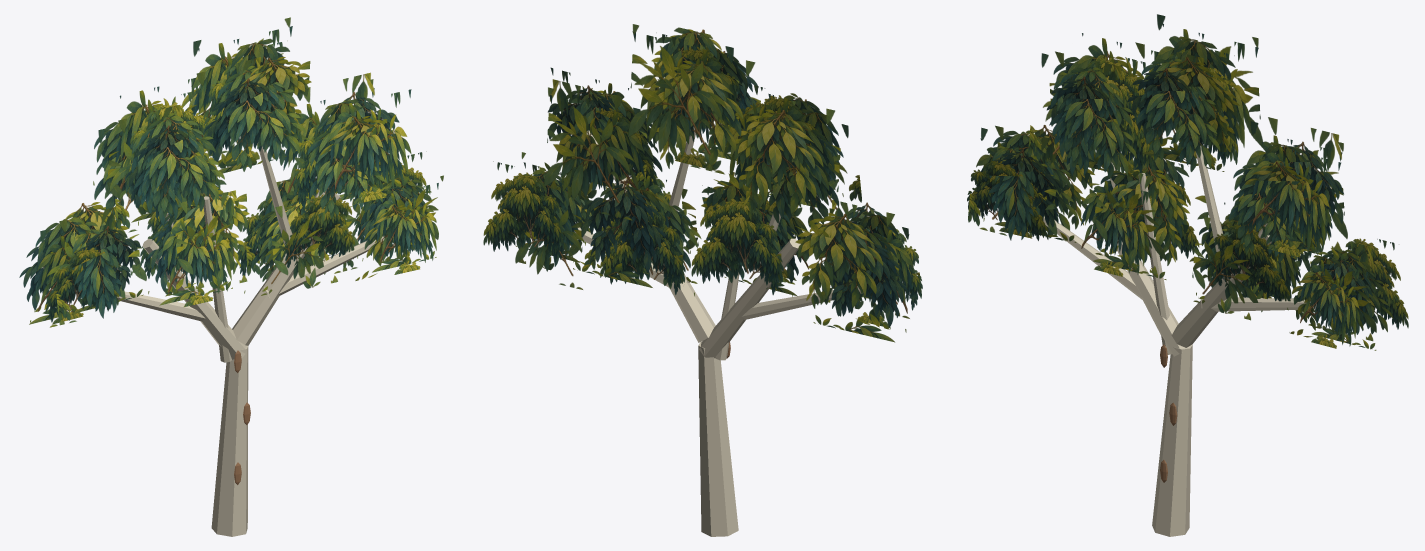
File: TREE_EUCALYPTUS_001_LOD_CLOSE.glb
The picture shows the model from 3 angles, left to right: view 1: azimuth 30°, elevation 25°; view 2: azimuth 150°, elevation 25°; view 3: azimuth 330°, elevation 25°; orthographic projection. The views are drawn at different scales.
Visible parts, largest first — view 1: GG_EUC_V2_BRANCH_00, GG_EUC_FRONT_ISLAND_01_CLUSTER_02, GG_EUC_FRONT_ISLAND_02_CLUSTER_01, GG_EUC_FRONT_ISLAND_03_CLUSTER_02, GG_EUC_FRONT_ISLAND_05_CLUSTER_00, GG_EUC_FRONT_ISLAND_03_CLUSTER_00, GG_EUC_FRONT_ISLAND_00_CLUSTER_01, GG_EUC_FRONT_ISLAND_04_CLUSTER_01, GG_EUC_FRONT_ISLAND_06_CLUSTER_02, GG_EUC_BODY_ISLAND_05_CLUSTER_02, GG_EUC_FRONT_ISLAND_02_CLUSTER_00, GG_EUC_V2_BRANCH_02 (+41 smaller); view 2: GG_EUC_REAR_ISLAND_01_CLUSTER_01, GG_EUC_V2_BRANCH_00, GG_EUC_REAR_ISLAND_05_CLUSTER_01, GG_EUC_REAR_ISLAND_00_CLUSTER_02, GG_EUC_REAR_ISLAND_06_CLUSTER_02, GG_EUC_REAR_ISLAND_02_CLUSTER_00, GG_EUC_REAR_ISLAND_04_CLUSTER_02, GG_EUC_REAR_ISLAND_02_CLUSTER_02, GG_EUC_REAR_ISLAND_03_CLUSTER_00, GG_EUC_REAR_ISLAND_00_CLUSTER_00, GG_EUC_REAR_ISLAND_03_CLUSTER_01, GG_EUC_REAR_ISLAND_01_CLUSTER_00 (+30 smaller); view 3: GG_EUC_V2_BRANCH_00, GG_EUC_FRONT_ISLAND_01_CLUSTER_02, GG_EUC_FRONT_ISLAND_02_CLUSTER_01, GG_EUC_FRONT_ISLAND_03_CLUSTER_02, GG_EUC_FRONT_ISLAND_05_CLUSTER_00, GG_EUC_FRONT_ISLAND_06_CLUSTER_02, GG_EUC_BODY_ISLAND_05_CLUSTER_02, GG_EUC_FRONT_ISLAND_03_CLUSTER_00, GG_EUC_FRONT_ISLAND_04_CLUSTER_01, GG_EUC_FRONT_ISLAND_00_CLUSTER_01, GG_EUC_FRONT_ISLAND_02_CLUSTER_02, GG_EUC_BODY_ISLAND_01_CLUSTER_02 (+37 smaller).
Boxes of the visible parts, x1,y1,x2,y2 form: GG_EUC_V2_BRANCH_00: (211,345,248,536); GG_EUC_FRONT_ISLAND_01_CLUSTER_02: (138,113,224,225); GG_EUC_FRONT_ISLAND_02_CLUSTER_01: (216,65,305,179); GG_EUC_FRONT_ISLAND_03_CLUSTER_02: (327,89,411,204); GG_EUC_FRONT_ISLAND_05_CLUSTER_00: (161,207,234,306); GG_EUC_FRONT_ISLAND_03_CLUSTER_00: (306,132,388,225); GG_EUC_FRONT_ISLAND_00_CLUSTER_01: (56,229,141,321); GG_EUC_FRONT_ISLAND_04_CLUSTER_01: (375,183,438,274); GG_EUC_FRONT_ISLAND_06_CLUSTER_02: (282,185,354,267); GG_EUC_BODY_ISLAND_05_CLUSTER_02: (164,187,249,292); GG_EUC_FRONT_ISLAND_02_CLUSTER_00: (204,78,286,175); GG_EUC_V2_BRANCH_02: (232,193,341,345); GG_EUC_REAR_ISLAND_01_CLUSTER_01: (734,109,831,237); GG_EUC_V2_BRANCH_00: (698,341,738,536); GG_EUC_REAR_ISLAND_05_CLUSTER_01: (691,185,783,295); GG_EUC_REAR_ISLAND_00_CLUSTER_02: (795,213,891,329); GG_EUC_REAR_ISLAND_06_CLUSTER_02: (573,180,665,287); GG_EUC_REAR_ISLAND_02_CLUSTER_00: (651,60,751,191); GG_EUC_REAR_ISLAND_04_CLUSTER_02: (483,161,564,261); GG_EUC_REAR_ISLAND_02_CLUSTER_02: (628,24,733,174); GG_EUC_REAR_ISLAND_03_CLUSTER_00: (549,95,644,207); GG_EUC_REAR_ISLAND_00_CLUSTER_00: (813,234,907,342); GG_EUC_REAR_ISLAND_03_CLUSTER_01: (544,87,640,220); GG_EUC_REAR_ISLAND_01_CLUSTER_00: (749,121,839,227); GG_EUC_V2_BRANCH_00: (1152,344,1192,536); GG_EUC_FRONT_ISLAND_01_CLUSTER_02: (1046,67,1136,178); GG_EUC_FRONT_ISLAND_02_CLUSTER_01: (1127,58,1220,171); GG_EUC_FRONT_ISLAND_03_CLUSTER_02: (1251,142,1341,257); GG_EUC_FRONT_ISLAND_05_CLUSTER_00: (1081,177,1158,276); GG_EUC_FRONT_ISLAND_06_CLUSTER_02: (1210,224,1290,301); GG_EUC_BODY_ISLAND_05_CLUSTER_02: (1099,165,1189,265); GG_EUC_FRONT_ISLAND_03_CLUSTER_00: (1220,164,1305,263); GG_EUC_FRONT_ISLAND_04_CLUSTER_01: (1299,257,1368,348); GG_EUC_FRONT_ISLAND_00_CLUSTER_01: (968,146,1056,240); GG_EUC_FRONT_ISLAND_02_CLUSTER_02: (1149,57,1239,151); GG_EUC_BODY_ISLAND_01_CLUSTER_02: (1076,57,1153,172).
Size of the model in its own units: 6.46 by 7.16 by 0.8615.
3 materials, 1 textured.
